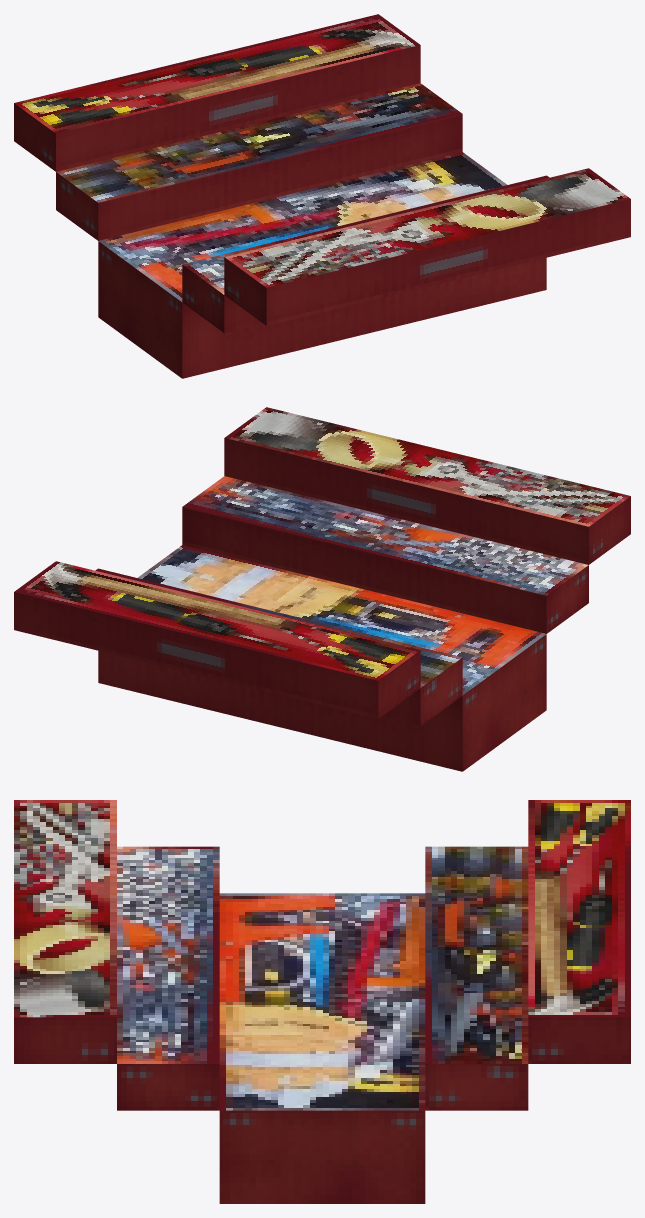
Rendered from toolbox.gltf.
3 renders of one model, top to bottom at view 1: azimuth 30°, elevation 25°; view 2: azimuth 150°, elevation 25°; view 3: azimuth 270°, elevation 25°, orthographic. The views are drawn at different scales.
Parts seen in each view (by area): view 1: toolbox; view 2: toolbox; view 3: toolbox.
Boxes of the visible parts, x1,y1,x2,y2 form: toolbox: (14,14,630,378); toolbox: (14,407,630,771); toolbox: (14,800,630,1203).
Bounding box in the file's own units: 0.625 × 0.25 × 0.75.
1 material, 1 textured.
